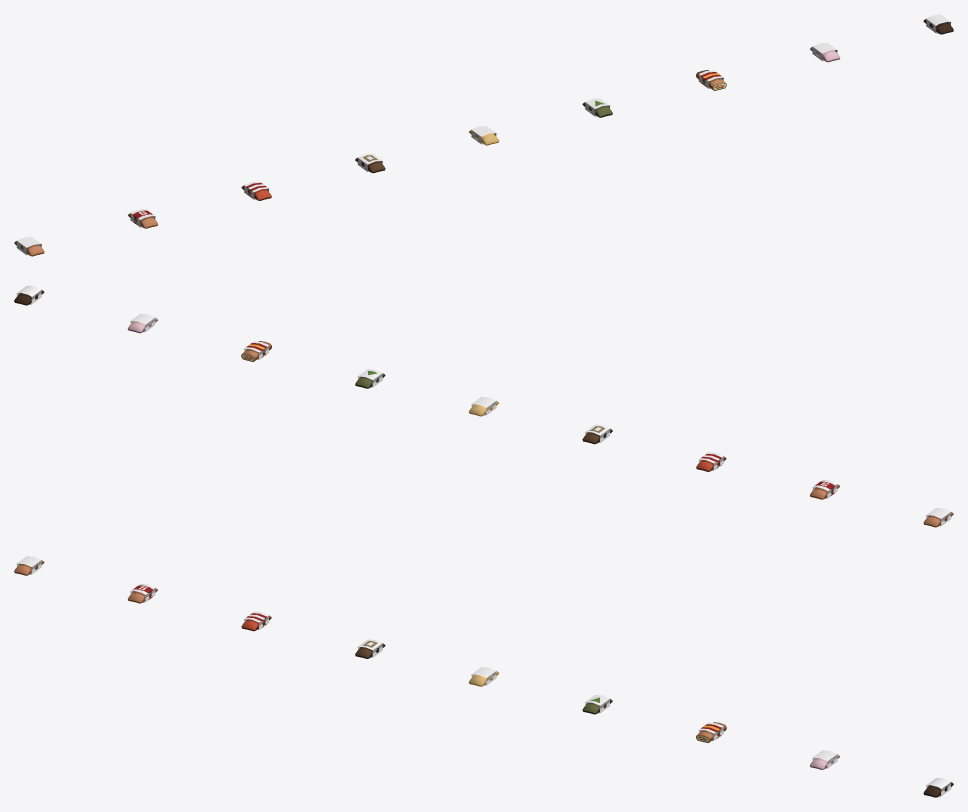
The model's file is DonkPockets.fbx.
3 renders of one model, top to bottom at view 1: azimuth 30°, elevation 25°; view 2: azimuth 150°, elevation 25°; view 3: azimuth 330°, elevation 25°, orthographic.
Bounding box in the file's own units: 8.13 × 0.0845 × 0.2729.
